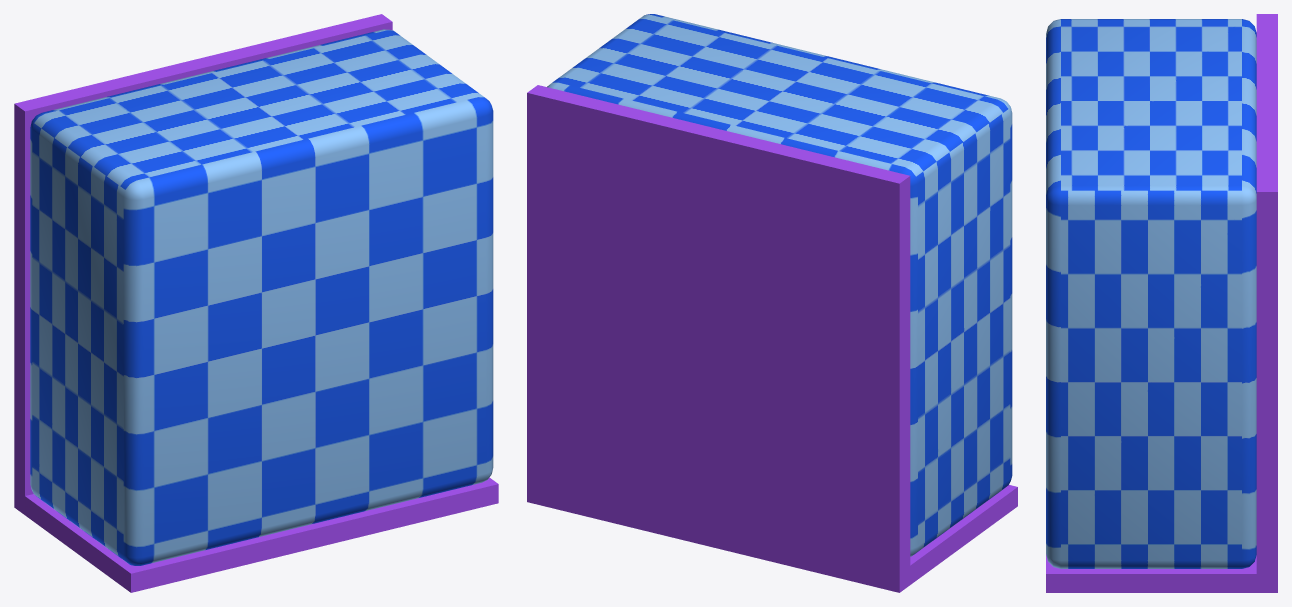
Rendered from LightWall08_1.FBX.
3 views of the same model, side by side, from view 1: azimuth 30°, elevation 25°; view 2: azimuth 150°, elevation 25°; view 3: azimuth 270°, elevation 25° (orthographic). The views are drawn at different scales.
Parts seen in each view (by area): view 1: LightWall08_1; view 2: LightWall08_1; view 3: LightWall08_1.
Boxes of the visible parts, left/top/right/bottom form: LightWall08_1: left=14, top=14, right=498, bottom=592; LightWall08_1: left=527, top=14, right=1017, bottom=592; LightWall08_1: left=1046, top=14, right=1277, bottom=592.
Size of the model in its own units: 10 by 10.5 by 5.5.
